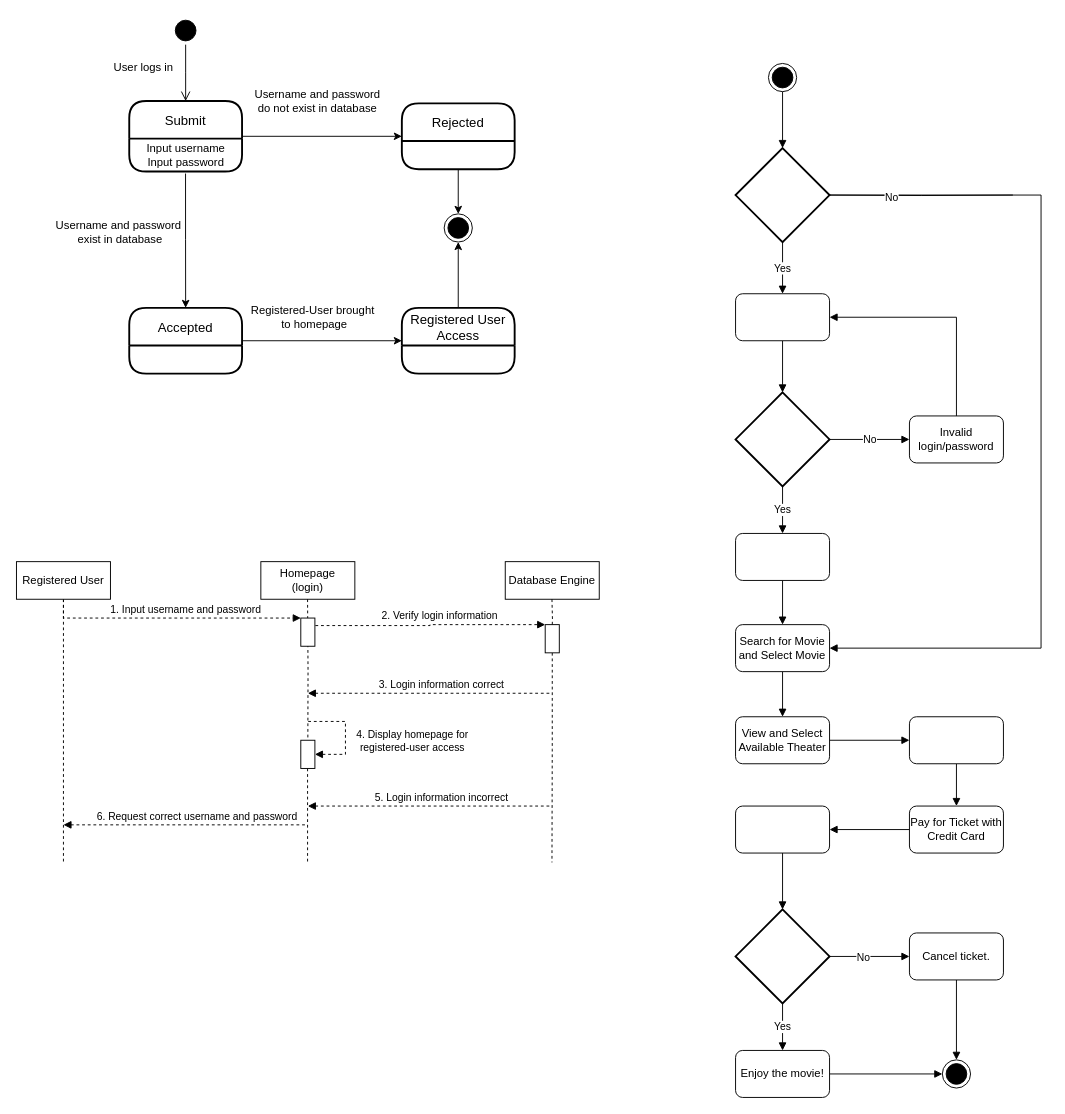
Image size: 1065x1114. Some labels were removed from this diagram. Each missing label, with the box of its shape:
Attend the Movie?: (734, 908, 830, 1004)
Correct login and password?: (734, 391, 830, 487)
Is the user registered?: (734, 147, 830, 243)
Receive Movie Ticket and Receipt: (735, 805, 830, 853)
User enters login name and password: (735, 293, 830, 341)
User successfully logs in: (735, 533, 830, 580)
View and Select Available Seat: (909, 716, 1003, 764)
